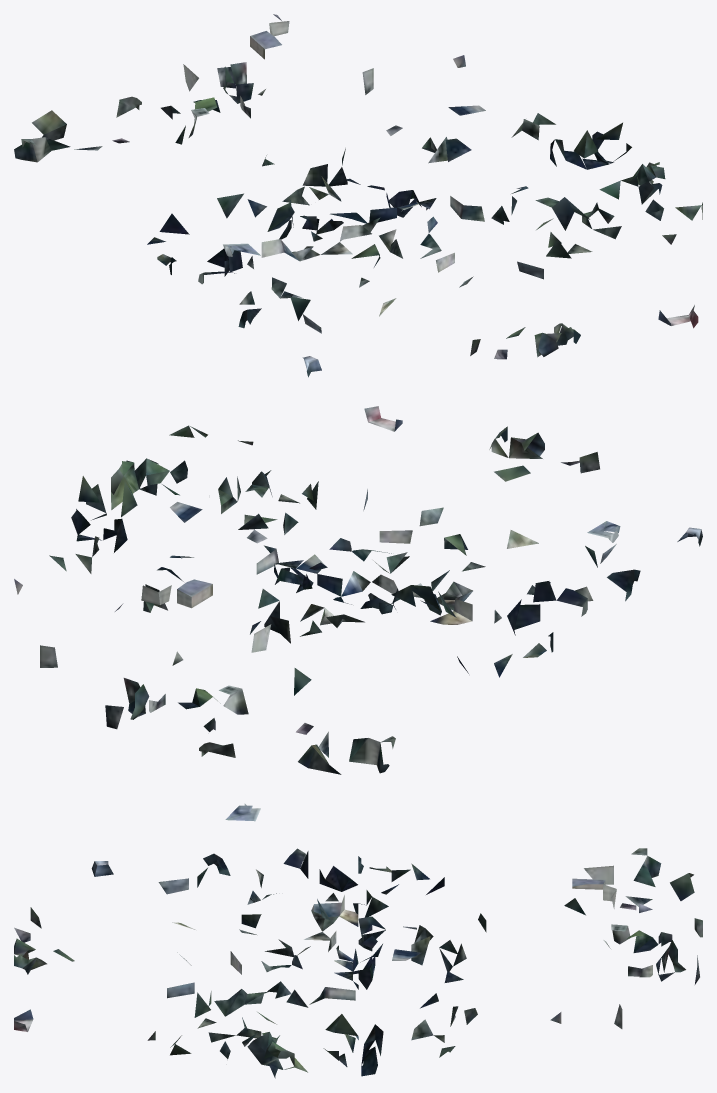
3 views of the same model, one above another, from view 1: azimuth 30°, elevation 25°; view 2: azimuth 150°, elevation 25°; view 3: azimuth 270°, elevation 25° (orthographic). The views are drawn at different scales.
Parts seen in each view (by area): view 1: 30436272704370616_1; view 2: 30436272704370616_1; view 3: 30436272704370616_1.
Part boxes in pixels (left/top/right/bottom): 30436272704370616_1: left=14, top=14, right=702, bottom=377; 30436272704370616_1: left=14, top=406, right=702, bottom=774; 30436272704370616_1: left=14, top=803, right=702, bottom=1078.
Bounding box in the file's own units: 219 × 49.33 × 306.
1 material, 1 textured.
